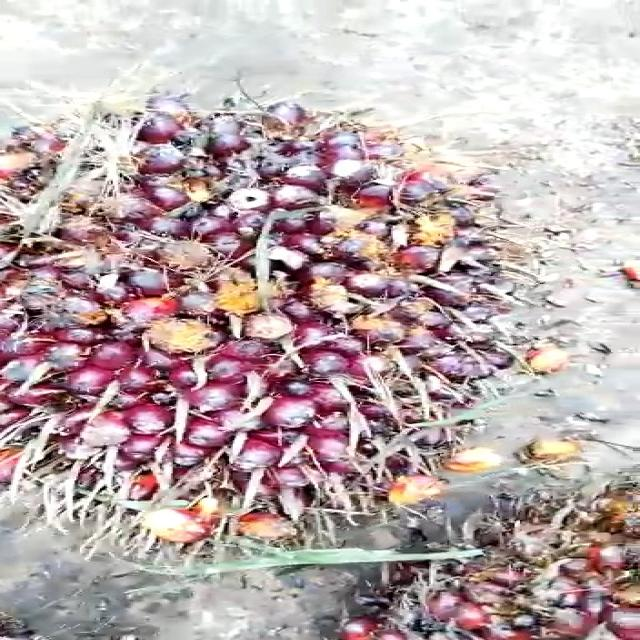palm oil: (0, 72, 573, 562)
